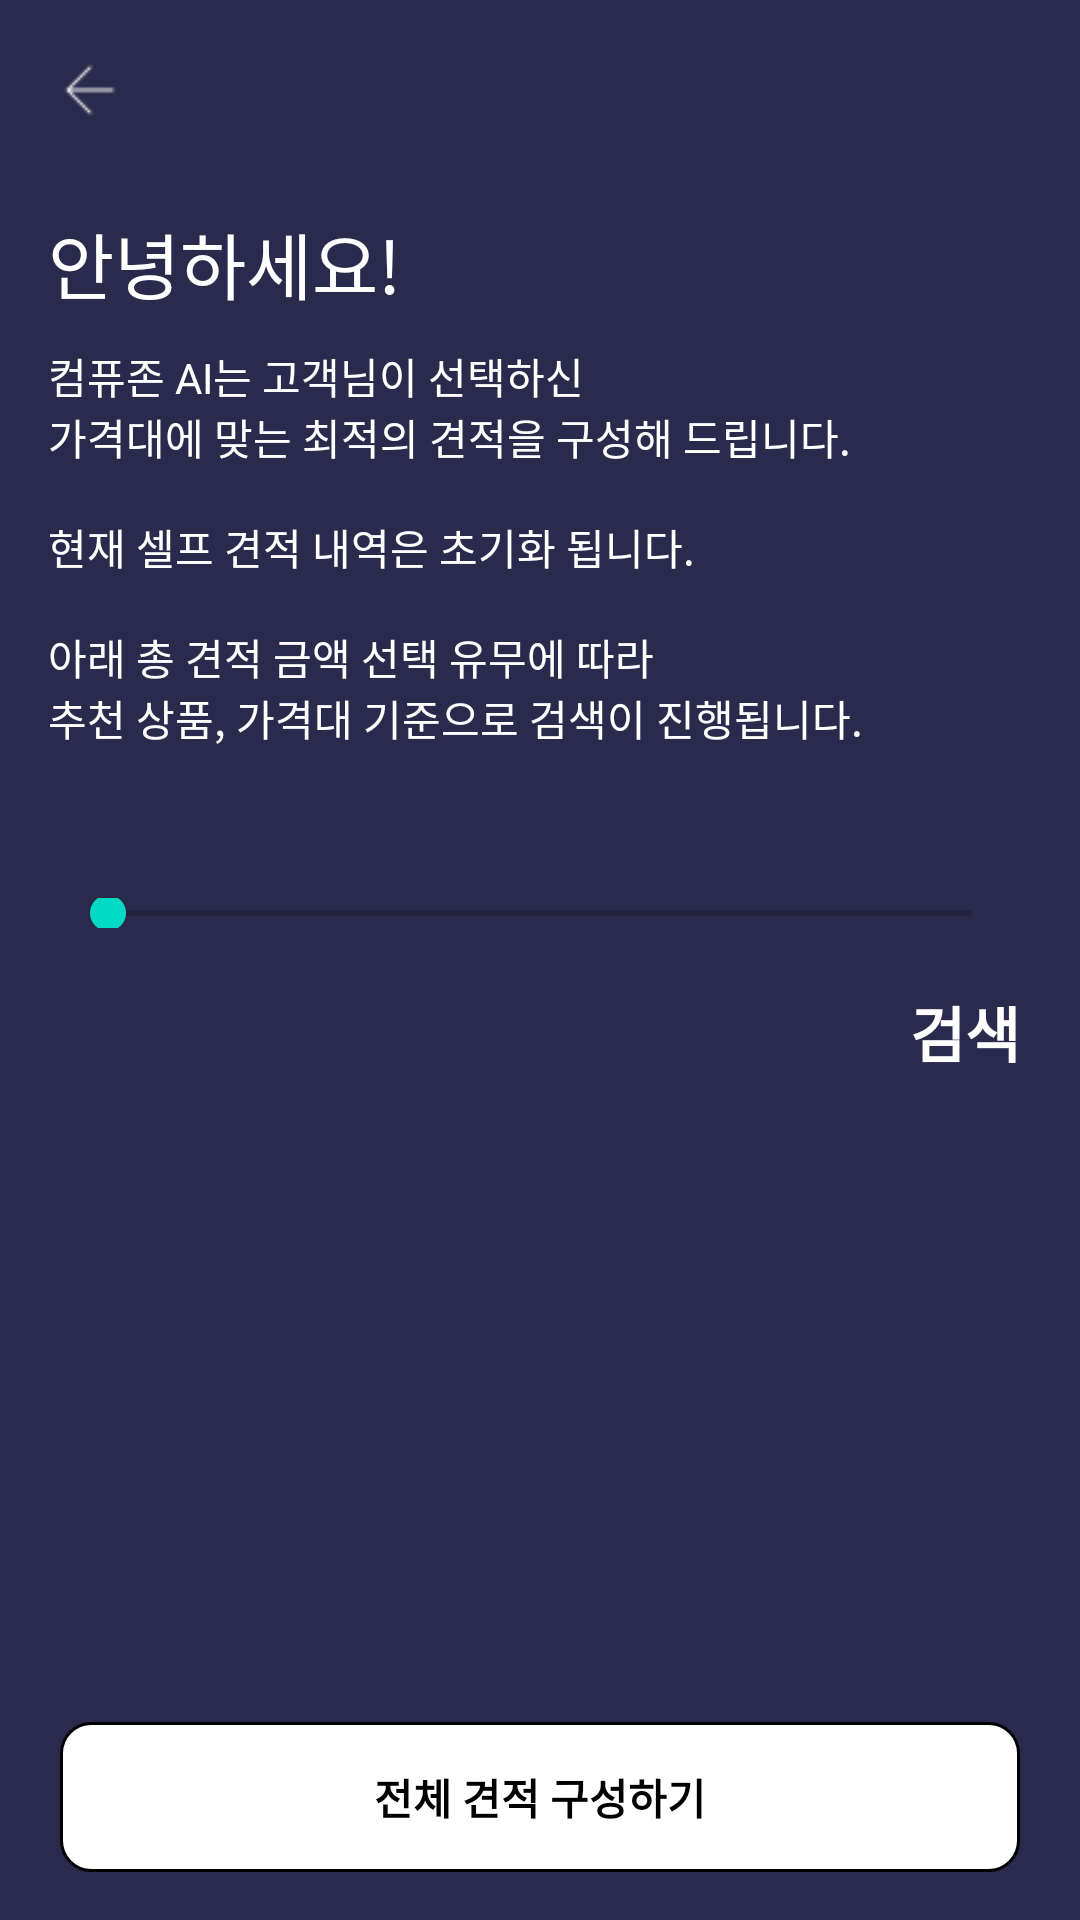

Screen size 1080×1920. Icon name, then its center in pixels as (x,y):
back: (90,90)
